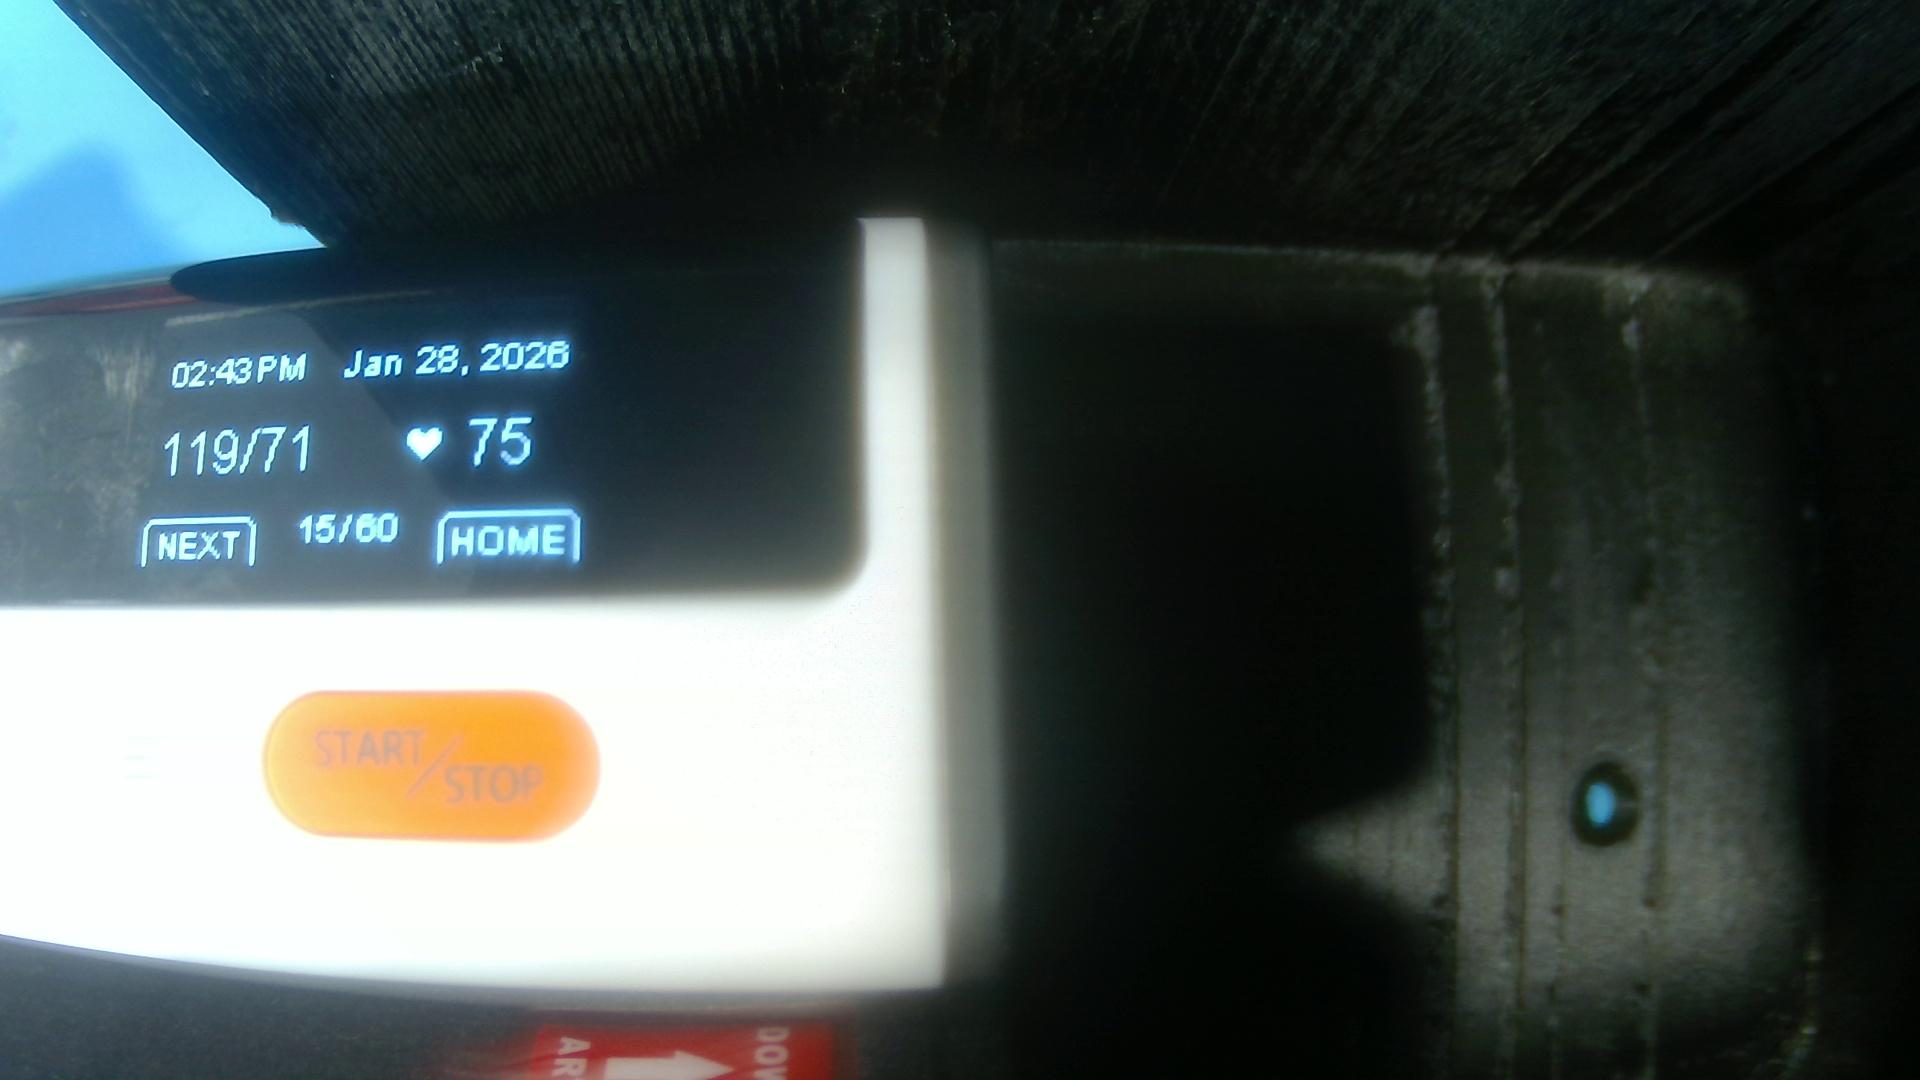DISPLAY: (8, 223, 851, 595)
